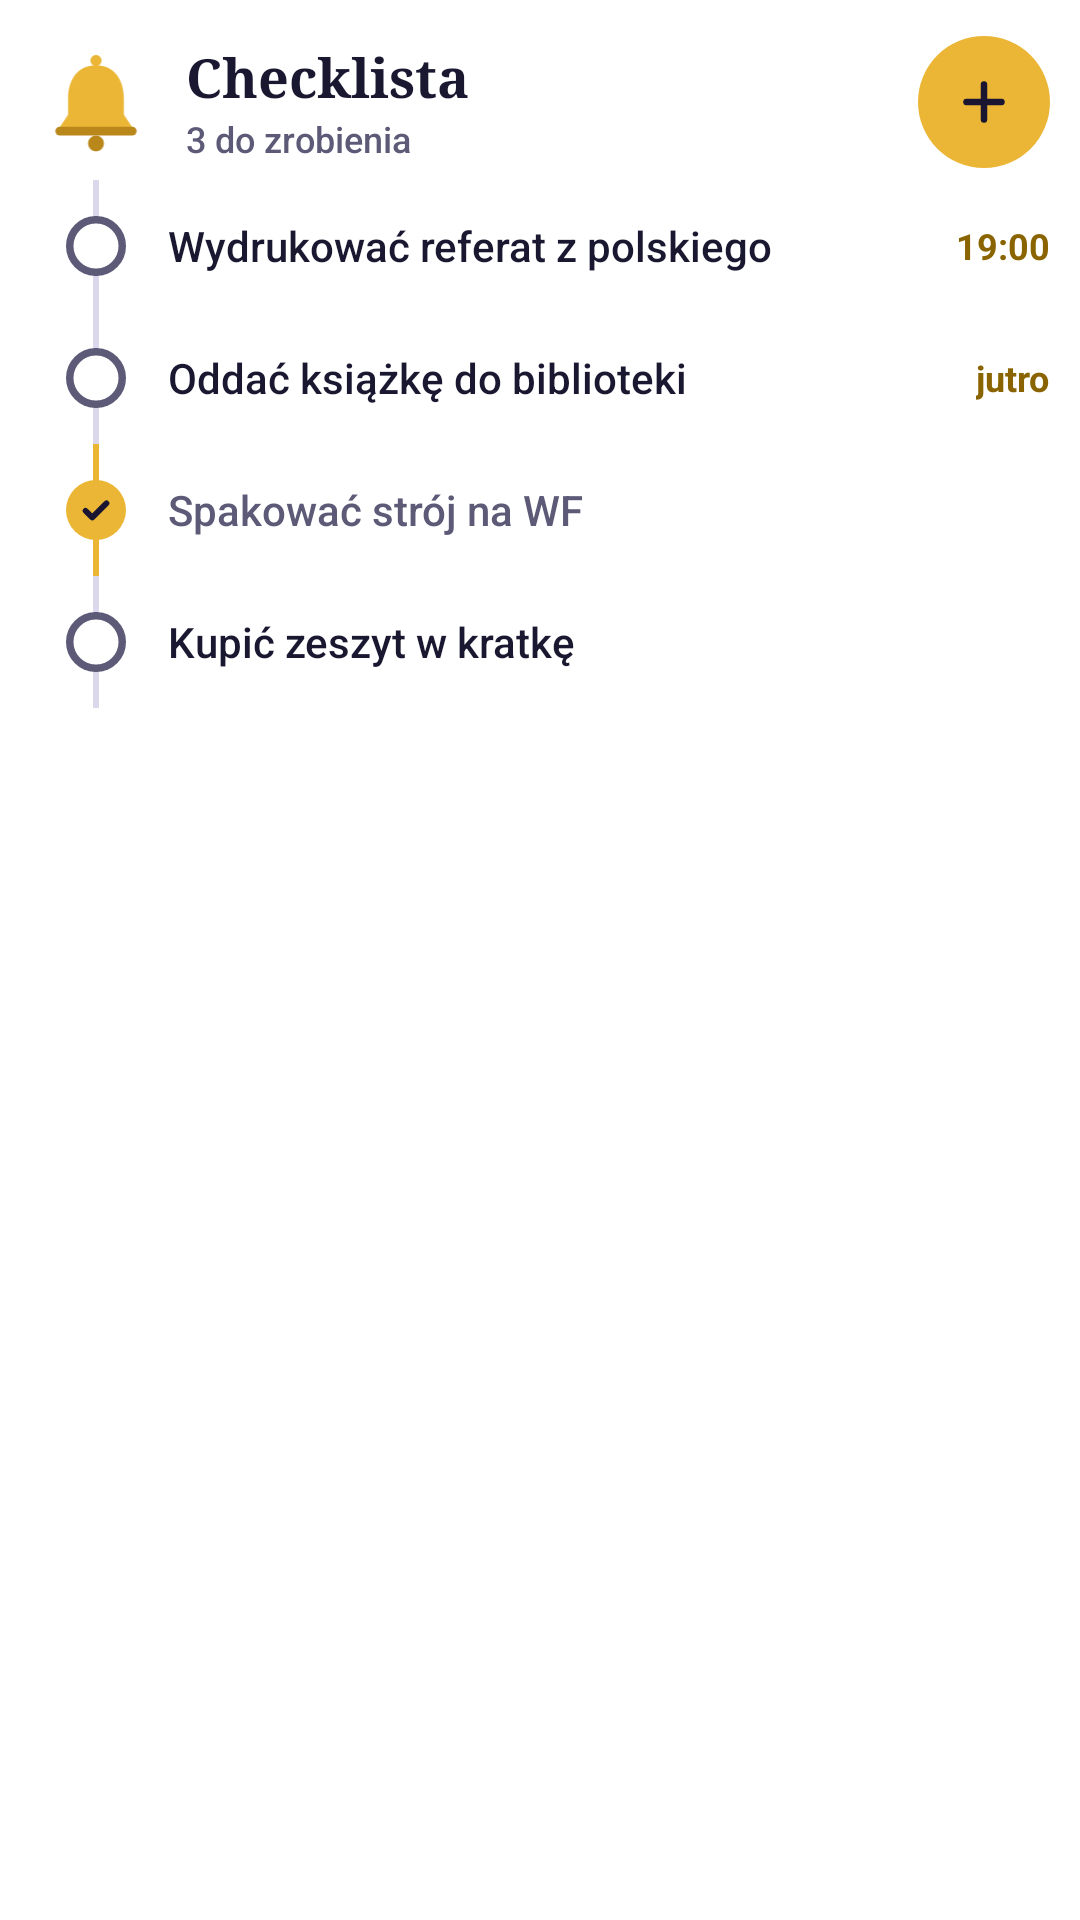

Screen size 1080*1920. Icon name, then its box in pixels as [left=x1, top=y1, right=x2, bottom=y2]:
widget plus: [left=963, top=81, right=1005, bottom=123]
